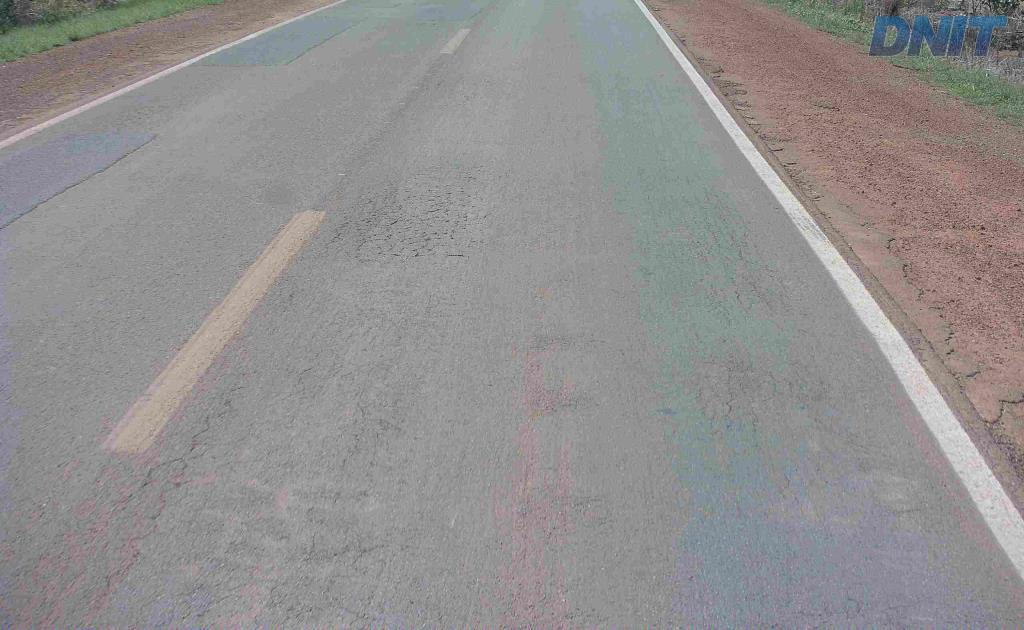crack: (351, 202, 413, 251)
